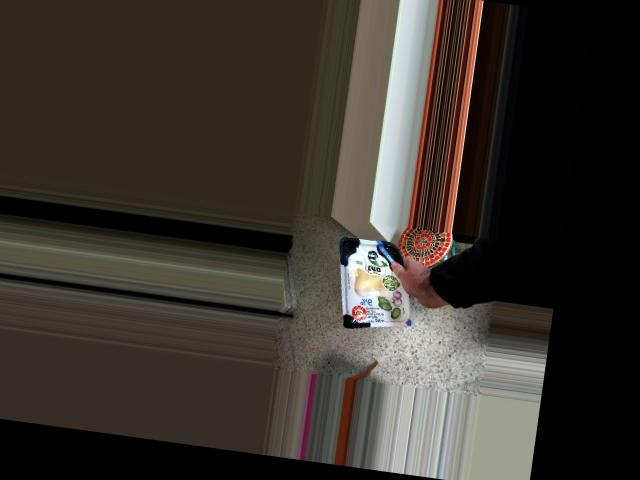cheese: (353, 253, 432, 329)
